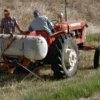Tractor: (22, 16, 92, 78)
